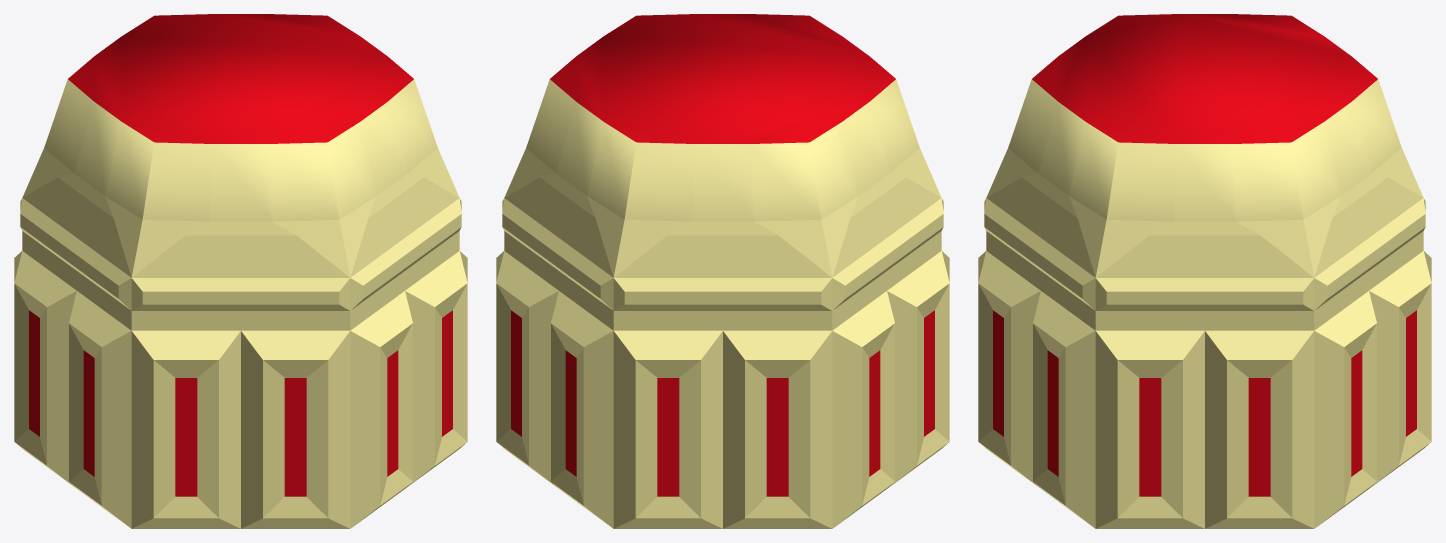
Rendered from LaserSpawnerRaw.fbx.
3 renders of one model, left to right at view 1: azimuth 30°, elevation 25°; view 2: azimuth 150°, elevation 25°; view 3: azimuth 270°, elevation 25°, orthographic.
Parts seen in each view (by area): view 1: SmokeGrenade; view 2: SmokeGrenade; view 3: SmokeGrenade.
Boxes of the visible parts, <box> form: SmokeGrenade: <box>14,14,467,528</box>; SmokeGrenade: <box>496,14,949,528</box>; SmokeGrenade: <box>978,14,1431,528</box>.
Bounding box in the file's own units: 9.66 × 9.33 × 10.37.
